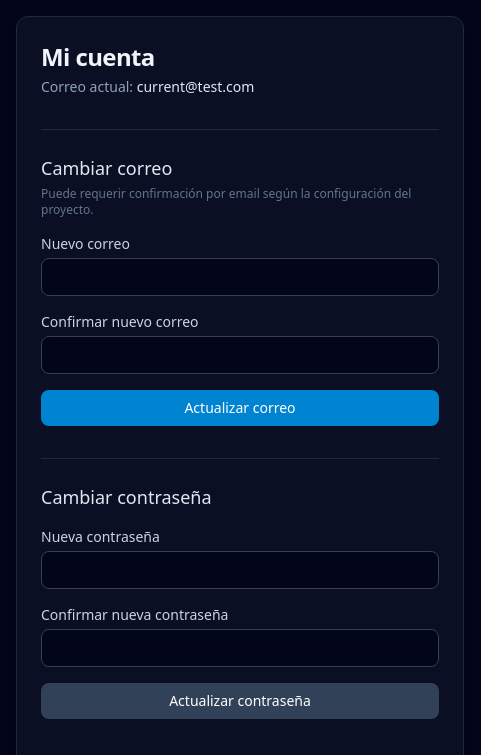
Test: ProfilePage › P5: contraseña actualizada correctamente
Expected: the heading "Mi cuenta" is shown, [41,40,155,73]
Type "secret12" into the password field labelled "Nueva contraseña". click: [240, 570]
box: [41,551,439,589]
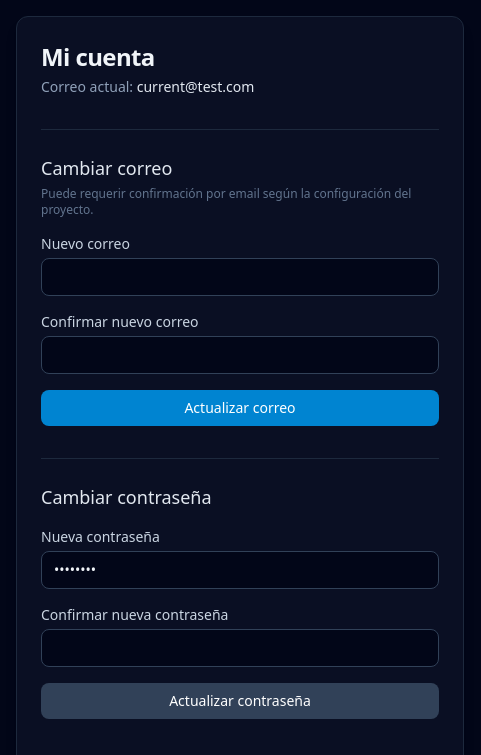
Type "secret12" into the password field labelled "Confirmar nueva contraseña". click: [240, 648]
box: [41,629,439,667]
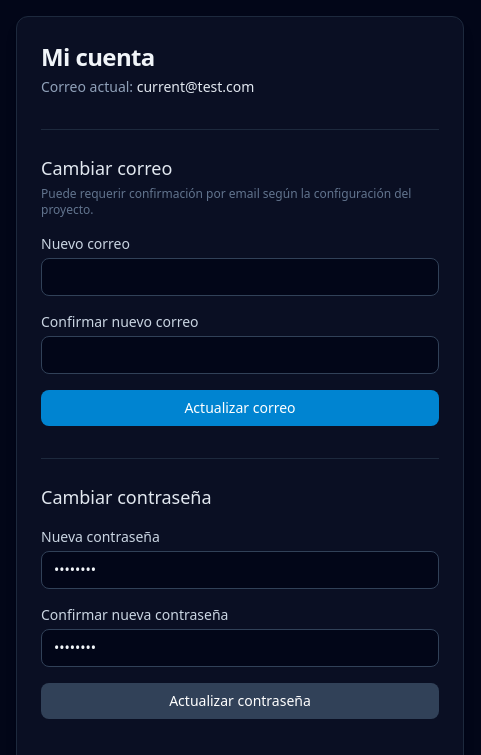
Click the button with test id "profile-submit-password". click: [240, 701]
box: [41,683,439,719]
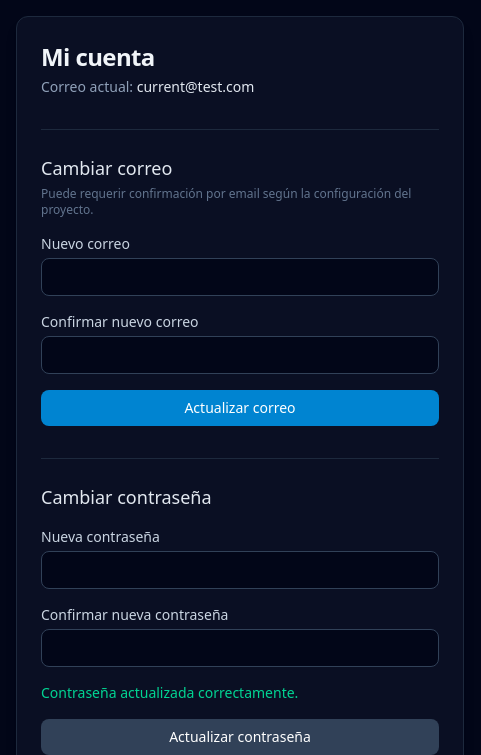
Result: the text "Contraseña actualizada correctamente." is shown at [41,683,298,702]
